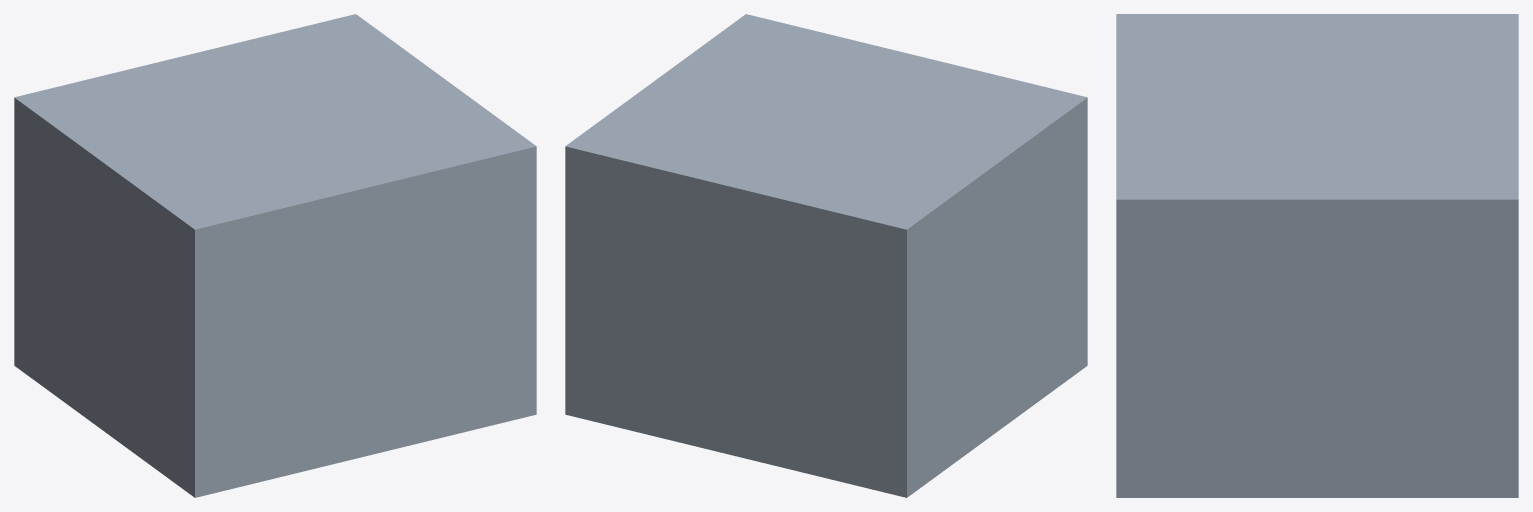
The model's file is house_stone.gltf.
The picture shows the model from 3 angles, left to right: view 1: azimuth 30°, elevation 25°; view 2: azimuth 150°, elevation 25°; view 3: azimuth 270°, elevation 25°; orthographic projection. The views are drawn at different scales.
Parts seen in each view (by area): view 1: HouseStone_node; view 2: HouseStone_node; view 3: HouseStone_node.
Boxes of the visible parts, x1,y1,x2,y2 form: HouseStone_node: [14, 14, 536, 497]; HouseStone_node: [565, 14, 1087, 497]; HouseStone_node: [1116, 14, 1518, 497].
Bounding box in the file's own units: 12 × 9 × 11.
